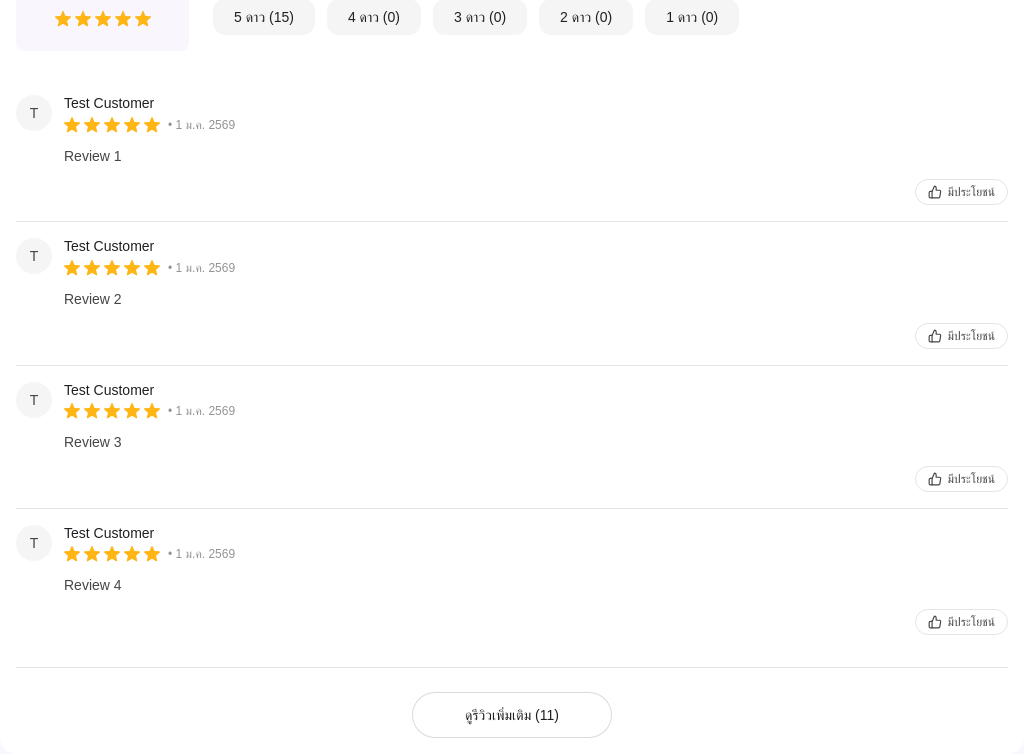
Test: ProductDetailsSellerReviews › shows 4 reviews initially and appends 10 more when clicking load more
(page scrolled)
Expected: the element with test id "product-review-item-review-page-1" is shown, [16,79,1008,222]
Expected: the element with test id "product-review-item-review-page-4" is shown, [16,509,1008,651]
Click the button "ดูรีวิวเพิ่มเติม (11)": (512, 715) [412,692,612,738]
(page scrolled)
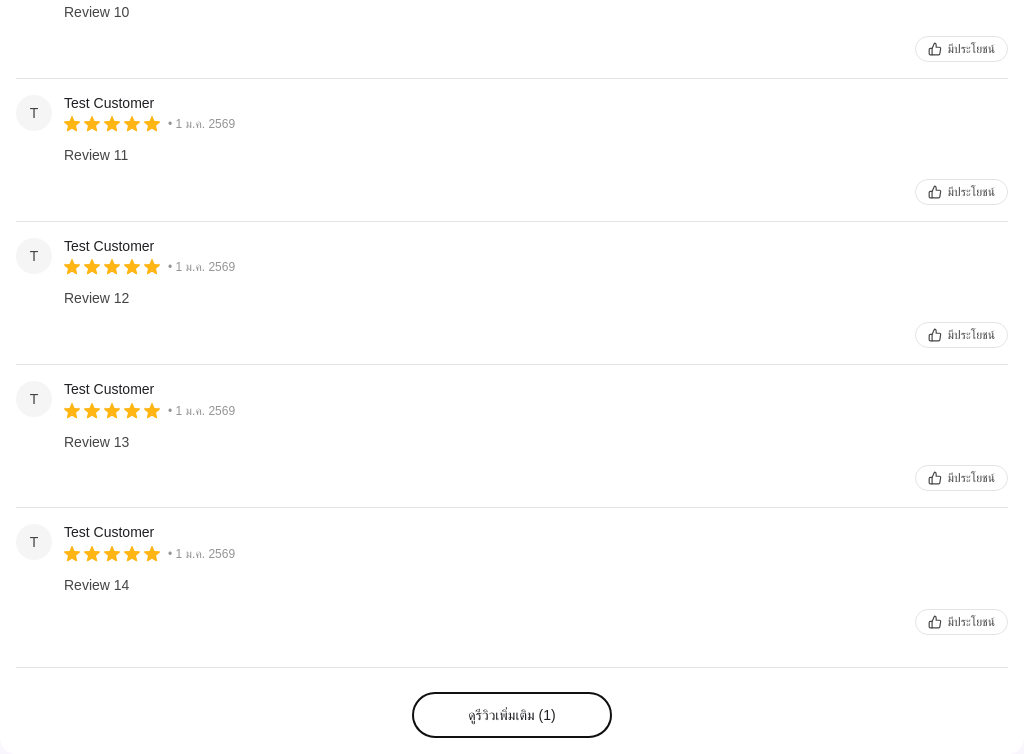
Expected: the element with test id "product-review-item-review-page-14" is shown, [16,508,1008,651]
Expected: the button "ดูรีวิวเพิ่มเติม (1)" is shown, [412,692,612,738]
